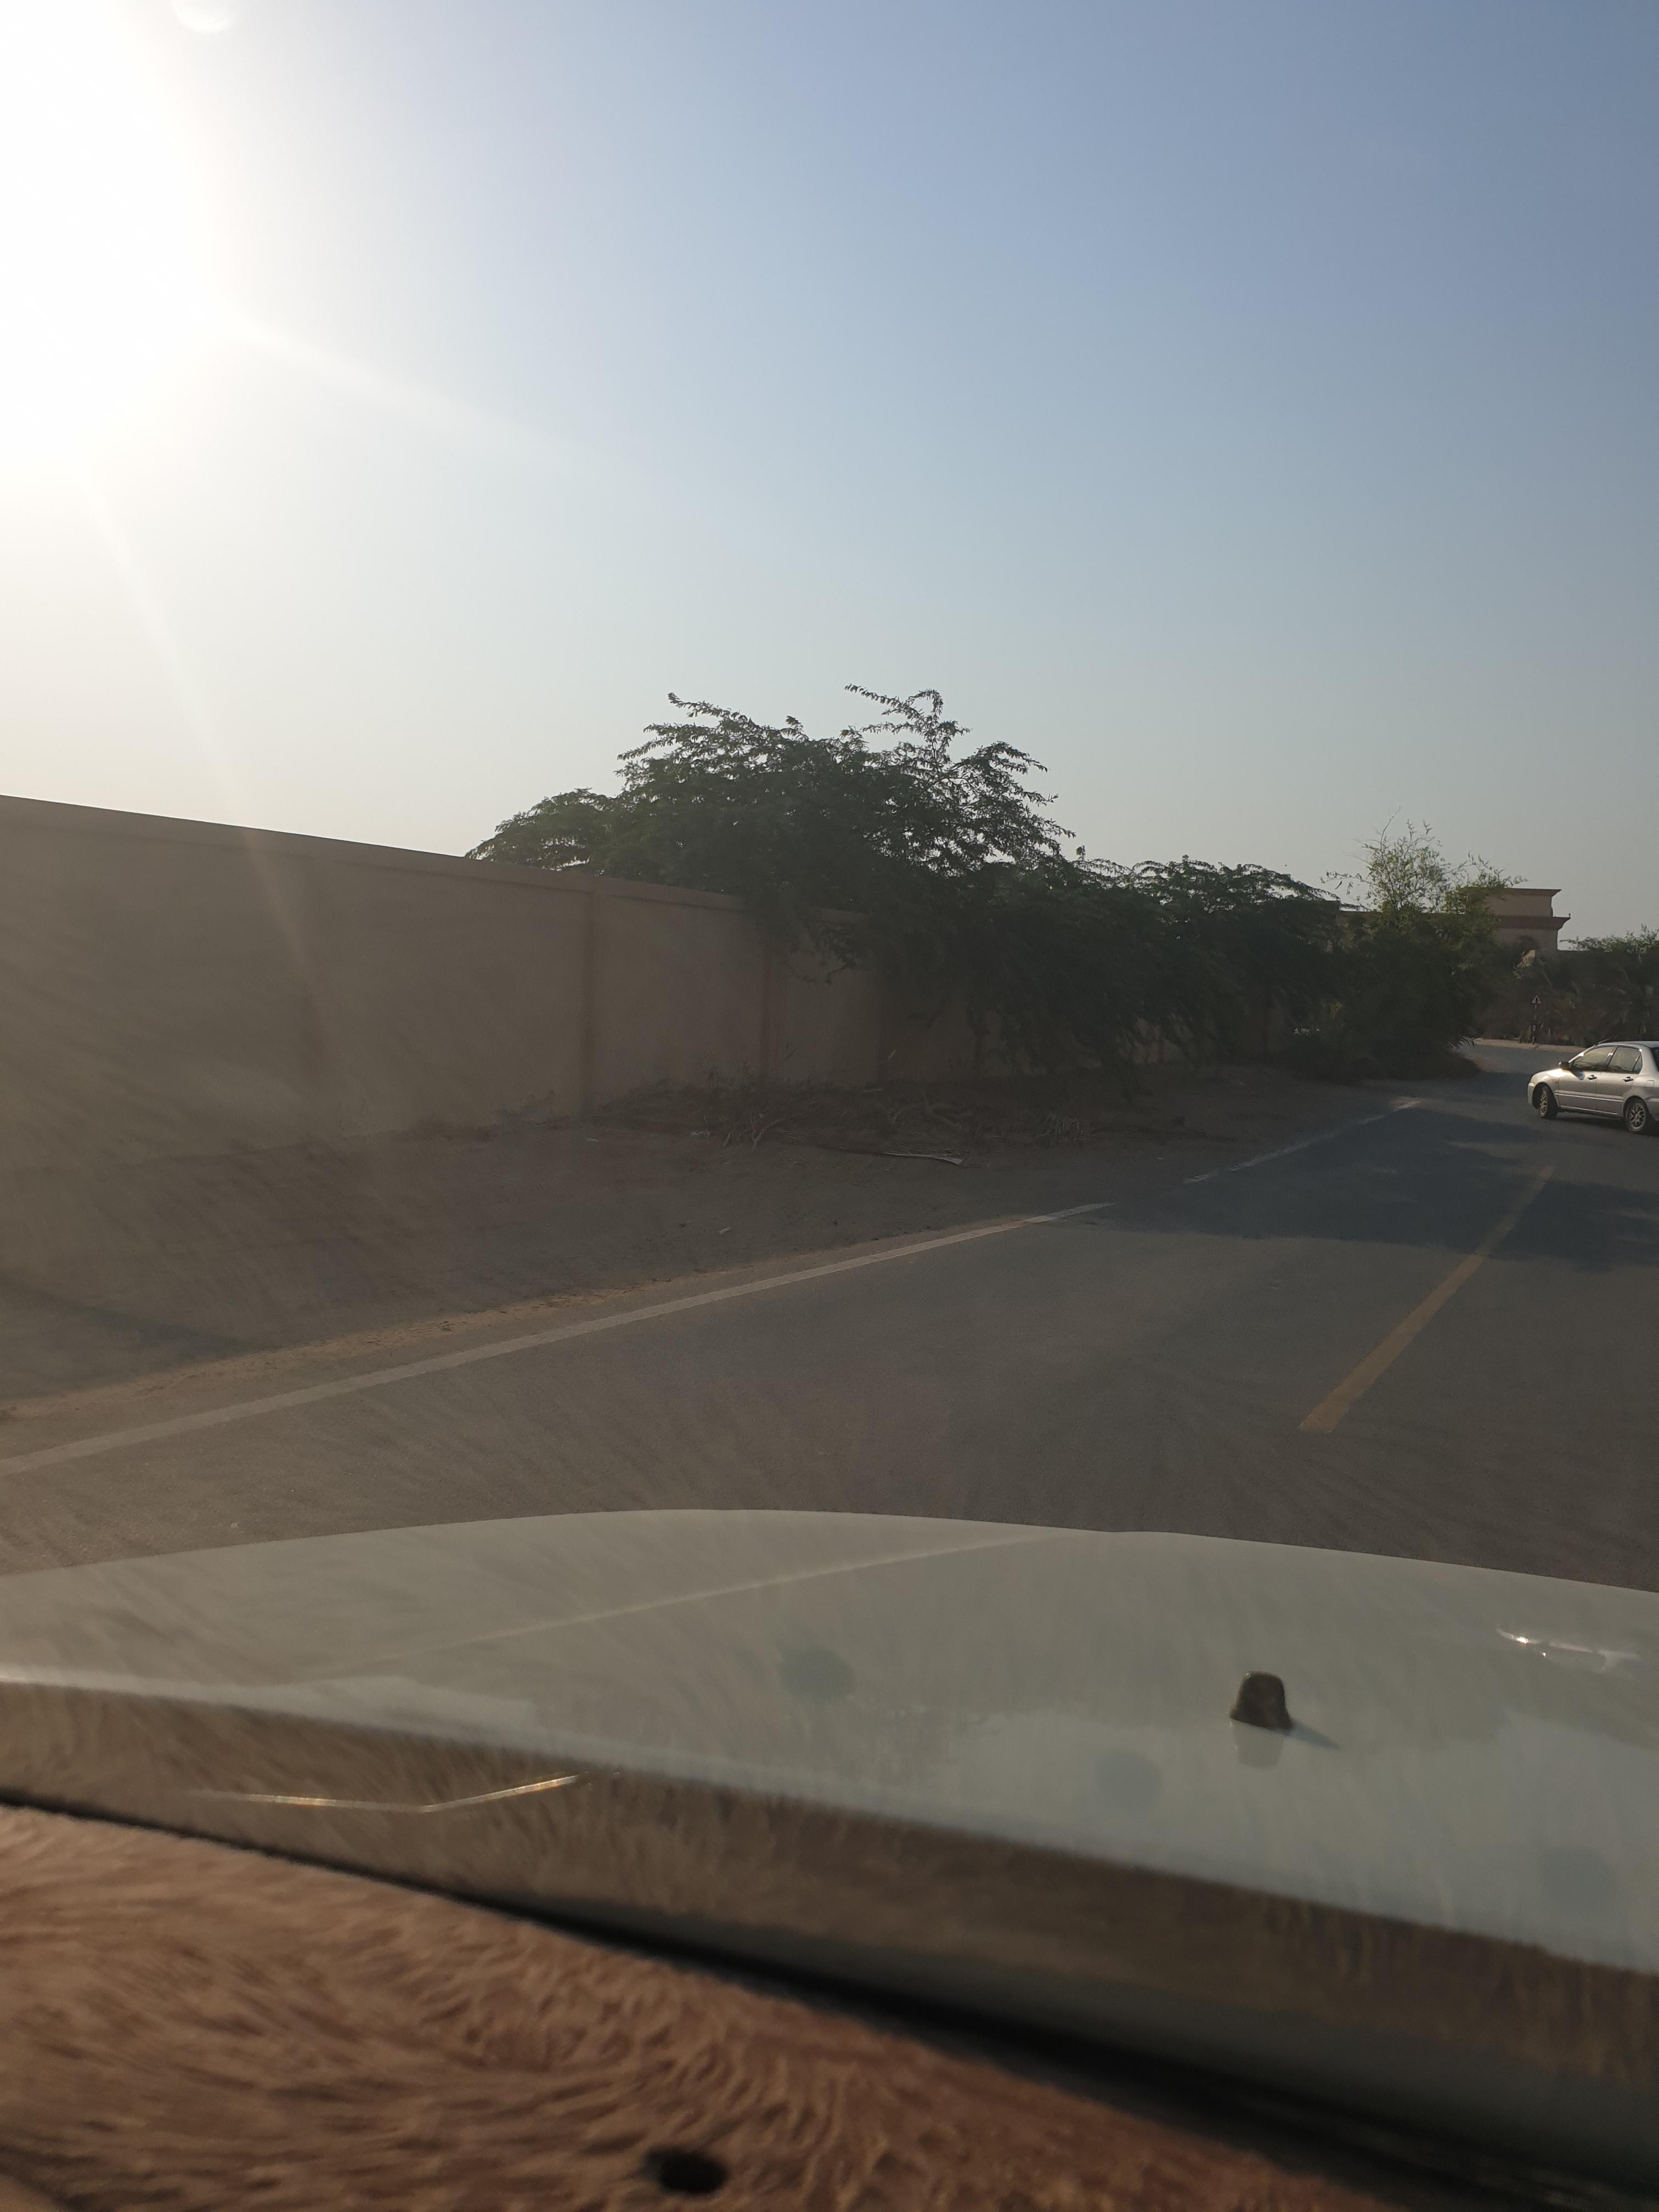fallen_trees: (673, 1094, 1028, 1172)
